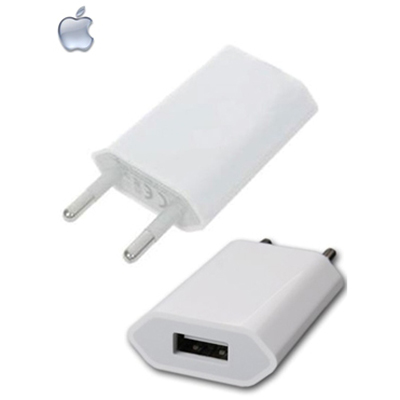Apple: (45, 7, 108, 57)
